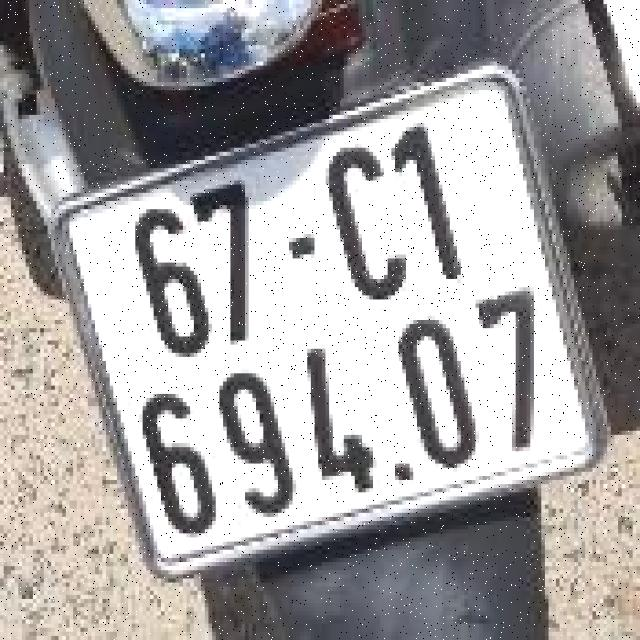0: (379, 300, 488, 483)
1: (379, 112, 477, 296)
4: (285, 330, 390, 512)
6: (131, 380, 232, 549), (125, 194, 220, 366)
7: (463, 276, 560, 467), (188, 168, 271, 360)
9: (202, 360, 314, 533)
C: (315, 130, 420, 318)
